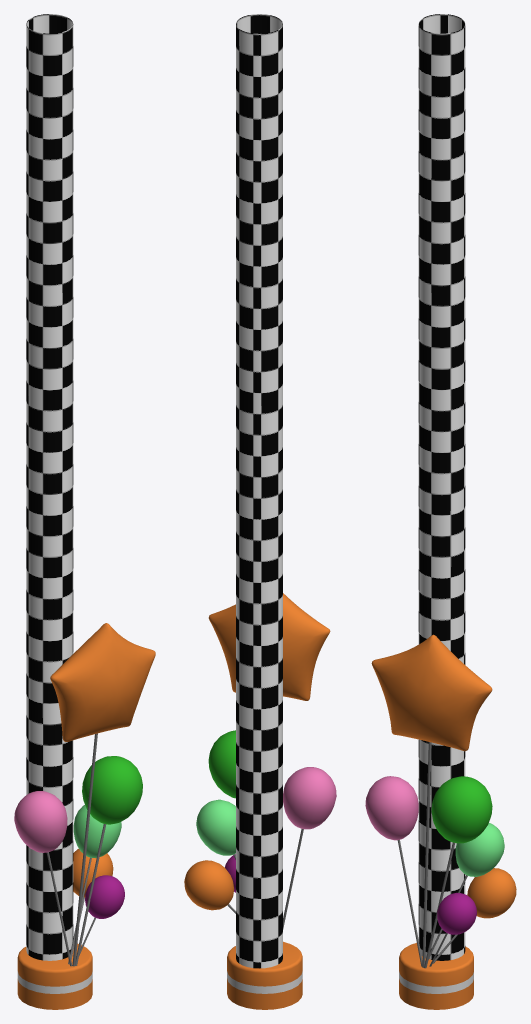
Rendered from FinishPole.fbx.
The picture shows the model from 3 angles, left to right: view 1: azimuth 30°, elevation 25°; view 2: azimuth 150°, elevation 25°; view 3: azimuth 330°, elevation 25°; orthographic projection.
Parts seen in each view (by area): view 1: Finish; view 2: Finish; view 3: Finish.
Boxes of the visible parts, x1,y1,x2,y2 form: Finish: [14, 14, 155, 1009]; Finish: [184, 14, 336, 1009]; Finish: [365, 14, 516, 1009].
Size of the model in its own units: 373 by 2647 by 309.
